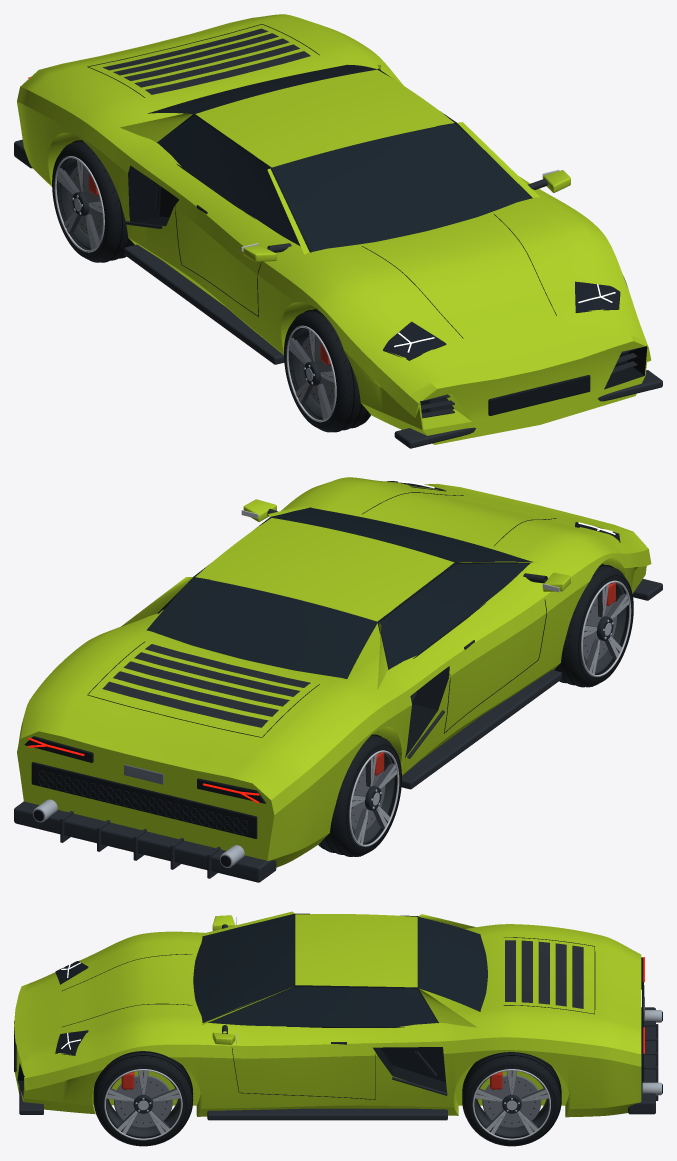
Rendered from huracan.glb.
The picture shows the model from 3 angles, top to bottom: view 1: azimuth 30°, elevation 25°; view 2: azimuth 150°, elevation 25°; view 3: azimuth 270°, elevation 25°; orthographic projection. The views are drawn at different scales.
Parts seen in each view (by area): view 1: V6 Angular stamped body, Web_Chassis_Rig_V6_Detail_Glass, Web_Chassis_Rig_huracan_Exterior_NewPaint, Web_Chassis_Rig_Finish_CarbonWeave, Web_Chassis_Rig_V6 Rubber, Web_Wheel_FR_Rubber, Web_Wheel_RR_Rubber, Web_Chassis_Rig_Finish_LampPolymer, Web_Chassis_Rig_V6 Satin graphite, Finish_SplitSpokes_FR, Finish_SplitSpokes_RR, Web_Wheel_RR_Graphite metal (+4 smaller); view 2: V6 Angular stamped body, Web_Chassis_Rig_V6_Detail_Glass, Web_Chassis_Rig_Finish_CarbonWeave, Web_Chassis_Rig_huracan_Exterior_NewPaint, Web_Chassis_Rig_V6 Rubber, Web_Wheel_FR_Rubber, Web_Wheel_RR_Rubber, Web_Chassis_Rig_V6 Satin graphite, Finish_SplitSpokes_RR, Finish_SplitSpokes_FR, Brake rotor.001, Brake rotor (+4 smaller); view 3: V6 Angular stamped body, Web_Chassis_Rig_V6_Detail_Glass, Web_Chassis_Rig_huracan_Exterior_NewPaint, Web_Chassis_Rig_Finish_CarbonWeave, Web_Chassis_Rig_V6 Rubber, Web_Wheel_FL_Rubber, Web_Wheel_RL_Rubber, Brake rotor.002, Brake rotor.003, Finish_SplitSpokes_RL, Finish_SplitSpokes_FL, Web_Wheel_RL_Graphite metal (+8 smaller).
Boxes of the visible parts, left/top/right/bottom form: V6 Angular stamped body: left=17, top=14, right=651, bottom=444; Web_Chassis_Rig_V6_Detail_Glass: left=147, top=64, right=531, bottom=251; Web_Chassis_Rig_huracan_Exterior_NewPaint: left=120, top=64, right=570, bottom=261; Web_Chassis_Rig_Finish_CarbonWeave: left=14, top=28, right=662, bottom=448; Web_Chassis_Rig_V6 Rubber: left=87, top=24, right=628, bottom=415; Web_Wheel_FR_Rubber: left=284, top=309, right=370, bottom=432; Web_Wheel_RR_Rubber: left=52, top=141, right=134, bottom=262; Web_Chassis_Rig_Finish_LampPolymer: left=383, top=281, right=620, bottom=359; Web_Chassis_Rig_V6 Satin graphite: left=125, top=178, right=637, bottom=418; Finish_SplitSpokes_FR: left=288, top=330, right=334, bottom=419; Finish_SplitSpokes_RR: left=56, top=160, right=102, bottom=249; Web_Wheel_RR_Graphite metal: left=59, top=158, right=101, bottom=250; V6 Angular stamped body: left=17, top=477, right=651, bottom=867; Web_Chassis_Rig_V6_Detail_Glass: left=147, top=508, right=530, bottom=678; Web_Chassis_Rig_Finish_CarbonWeave: left=14, top=579, right=662, bottom=882; Web_Chassis_Rig_huracan_Exterior_NewPaint: left=120, top=499, right=570, bottom=689; Web_Chassis_Rig_V6 Rubber: left=24, top=486, right=620, bottom=866; Web_Wheel_FR_Rubber: left=554, top=564, right=633, bottom=687; Web_Wheel_RR_Rubber: left=318, top=735, right=401, bottom=856; Web_Chassis_Rig_V6 Satin graphite: left=38, top=508, right=547, bottom=835; Finish_SplitSpokes_RR: left=351, top=754, right=397, bottom=844; Finish_SplitSpokes_FR: left=583, top=584, right=628, bottom=674; Brake rotor.001: left=583, top=596, right=617, bottom=661; Brake rotor: left=351, top=766, right=385, bottom=831; V6 Angular stamped body: left=14, top=924, right=641, bottom=1117; Web_Chassis_Rig_V6_Detail_Glass: left=193, top=914, right=487, bottom=1027; Web_Chassis_Rig_huracan_Exterior_NewPaint: left=202, top=911, right=477, bottom=1044; Web_Chassis_Rig_Finish_CarbonWeave: left=19, top=940, right=658, bottom=1120; Web_Chassis_Rig_V6 Rubber: left=14, top=913, right=662, bottom=1099; Web_Wheel_FL_Rubber: left=94, top=1051, right=192, bottom=1146; Web_Wheel_RL_Rubber: left=463, top=1052, right=560, bottom=1146; Brake rotor.002: left=482, top=1075, right=541, bottom=1128; Brake rotor.003: left=114, top=1075, right=172, bottom=1128; Finish_SplitSpokes_RL: left=475, top=1070, right=548, bottom=1134; Finish_SplitSpokes_FL: left=106, top=1070, right=180, bottom=1134; Web_Wheel_RL_Graphite metal: left=474, top=1073, right=549, bottom=1138.
Size of the model in its own units: 2.09 by 1.15 by 4.61.
